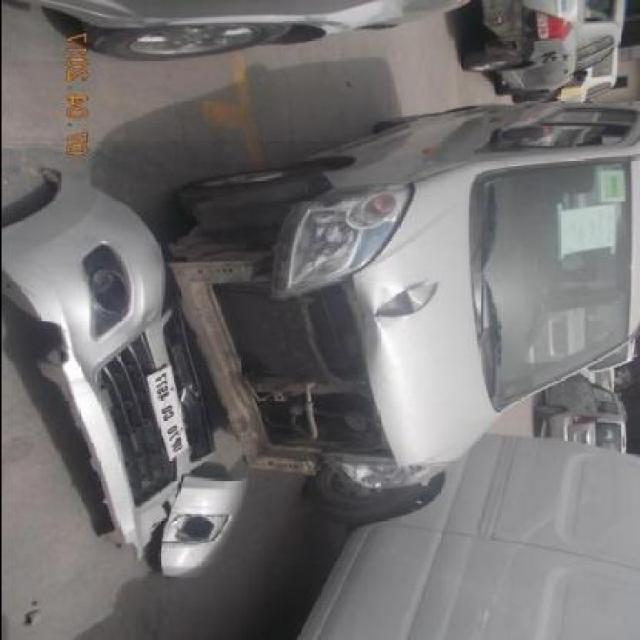damage: (160, 184, 403, 484), (366, 273, 443, 327)
